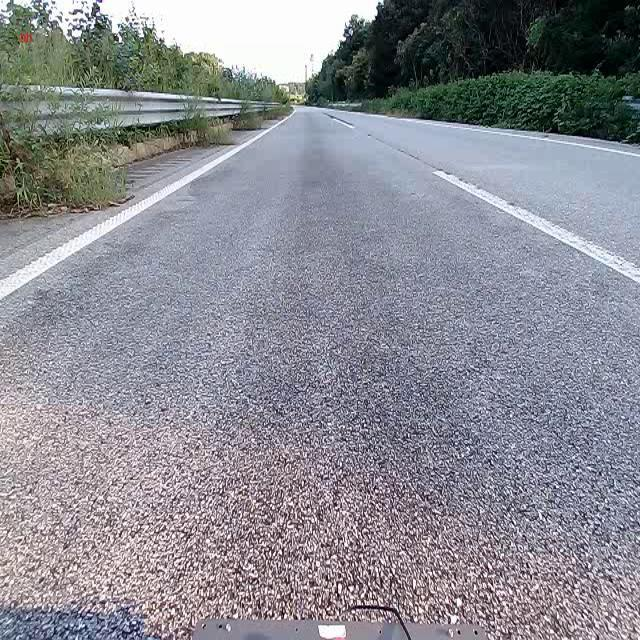Lane: (0, 70, 303, 298), (315, 95, 640, 287), (0, 111, 294, 300), (426, 161, 639, 283), (398, 118, 639, 157), (326, 112, 353, 126)
